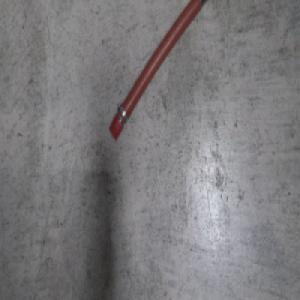Hose: (108, 0, 209, 143)
